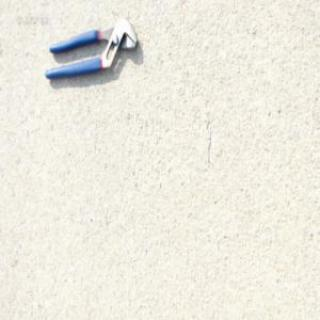Pliertrack_idkeyframe: (43, 16, 137, 80)
